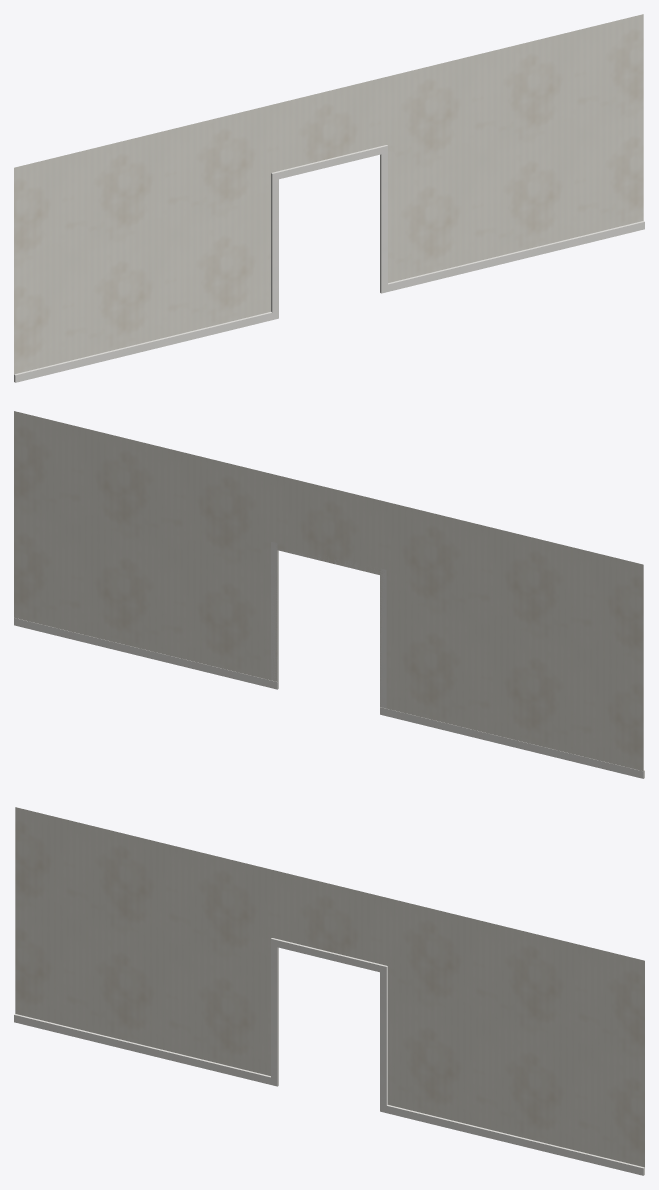
File: wall_door.gltf
The picture shows the model from 3 angles, top to bottom: view 1: azimuth 30°, elevation 25°; view 2: azimuth 150°, elevation 25°; view 3: azimuth 330°, elevation 25°; orthographic projection.
Visible parts, largest first — view 1: jx_wall_door; view 2: jx_wall_door; view 3: jx_wall_door.
Part boxes in pixels (x1,y1,x2,y2): jx_wall_door: (14, 14, 644, 382); jx_wall_door: (14, 411, 644, 778); jx_wall_door: (14, 807, 644, 1175).
Size of the model in its own units: 12.3 by 4 by 0.05.
2 materials, 2 textured.
